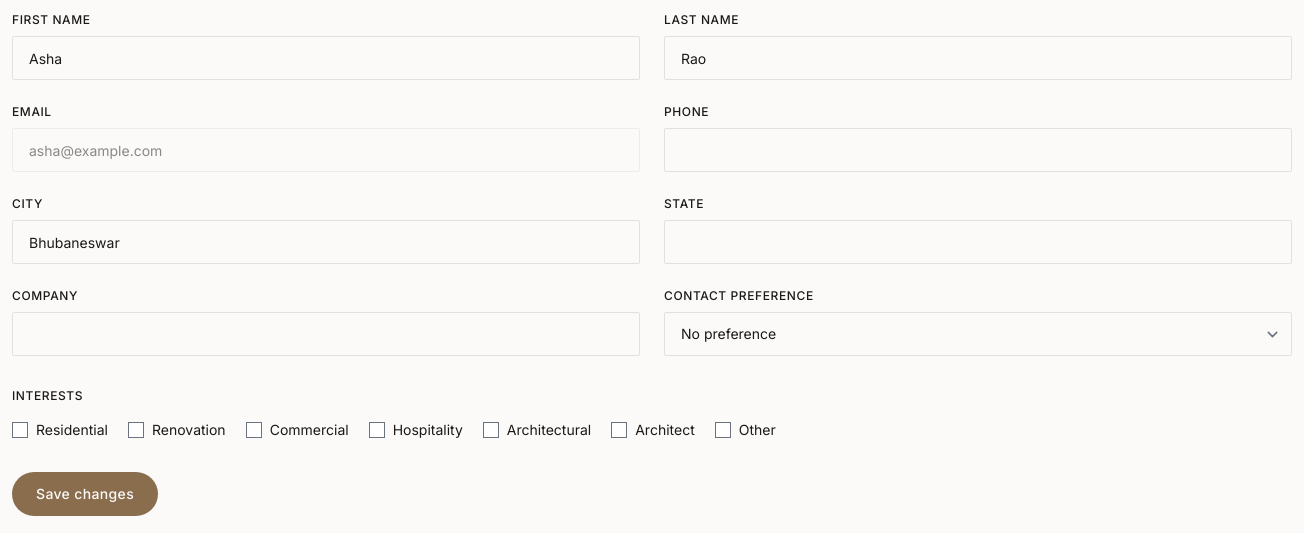
ProfileForm › keeps the form and shows an error when saving fails
The width and height of the screenshot is (1304, 533).
Step 1. Click the button "Save changes" → point(85, 494), box [12,472,158,516]
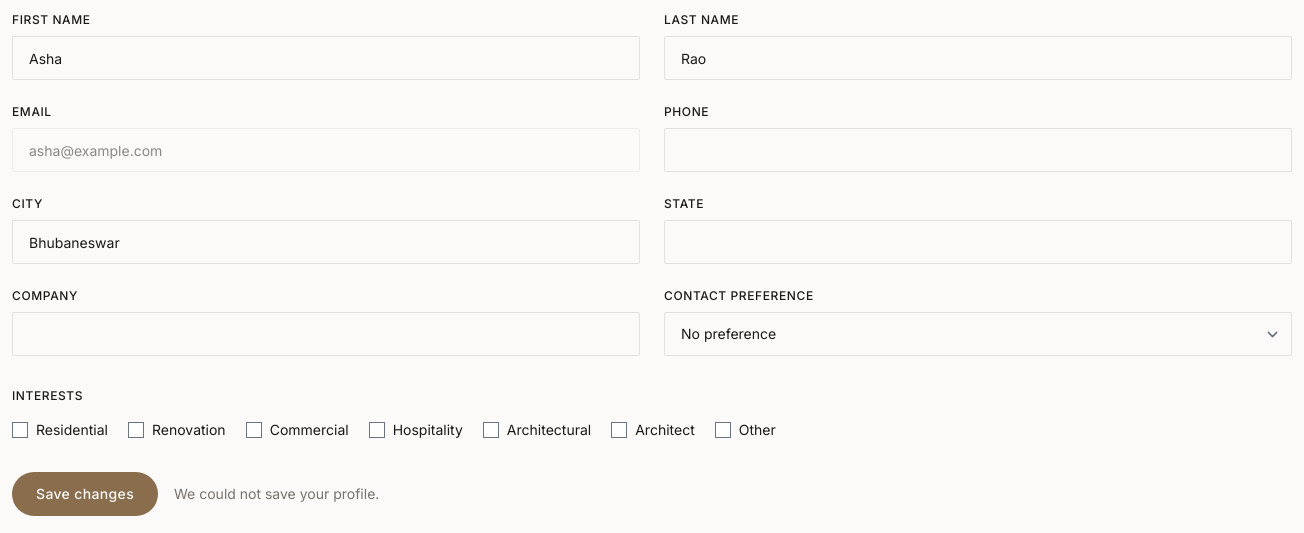
Expected: the field labelled "First name" holds "Asha", [12,36,640,80]
Expected: the message shows "could not save your profile", [174,485,379,502]
